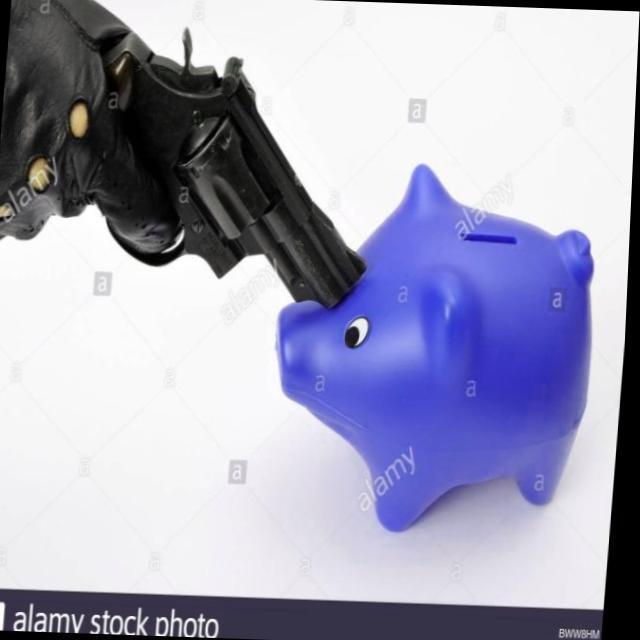weapon: (62, 6, 390, 322)
